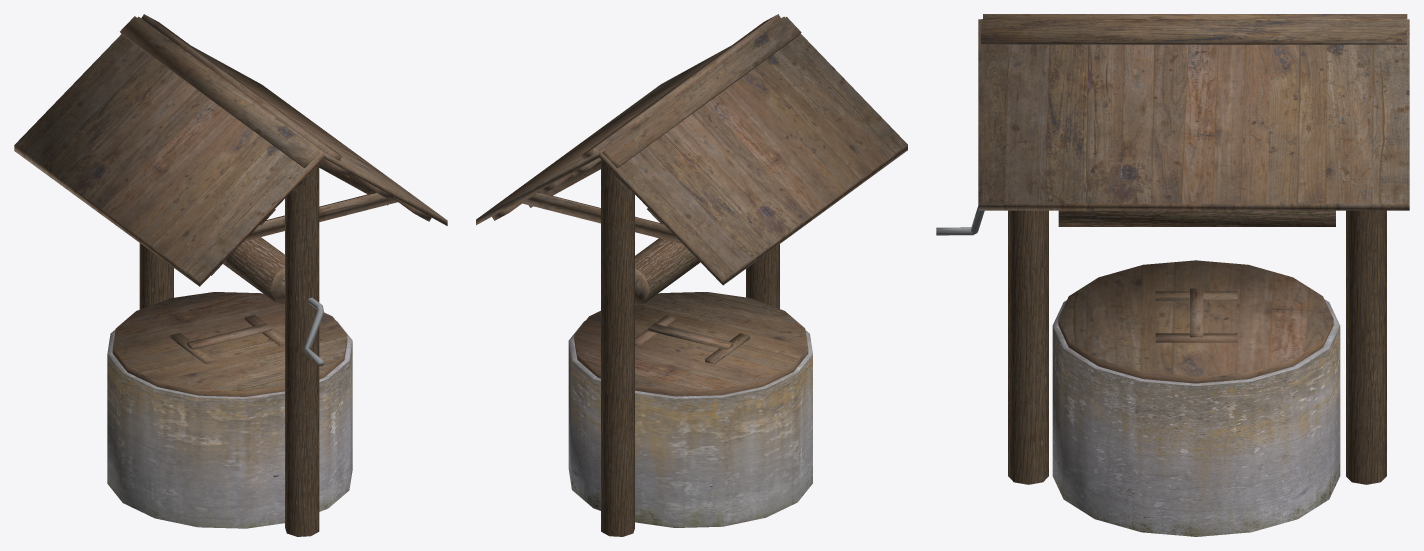
Rendered from village_well.obj.
3 renders of one model, left to right at view 1: azimuth 30°, elevation 25°; view 2: azimuth 150°, elevation 25°; view 3: azimuth 270°, elevation 25°, orthographic. The views are drawn at different scales.
Visible parts, largest first — view 1: well_body, well_lever; view 2: well_body, well_lever; view 3: well_body, well_lever.
Boxes of the visible parts, x1,y1,x2,y2 form: well_body: (14, 14, 447, 536); well_lever: (223, 237, 323, 366); well_body: (476, 14, 907, 536); well_lever: (635, 238, 700, 304); well_body: (978, 14, 1409, 536); well_lever: (936, 206, 1335, 235).
Bounding box in the file's own units: 1.71 × 2.61 × 2.43.
1 material, 1 textured.
